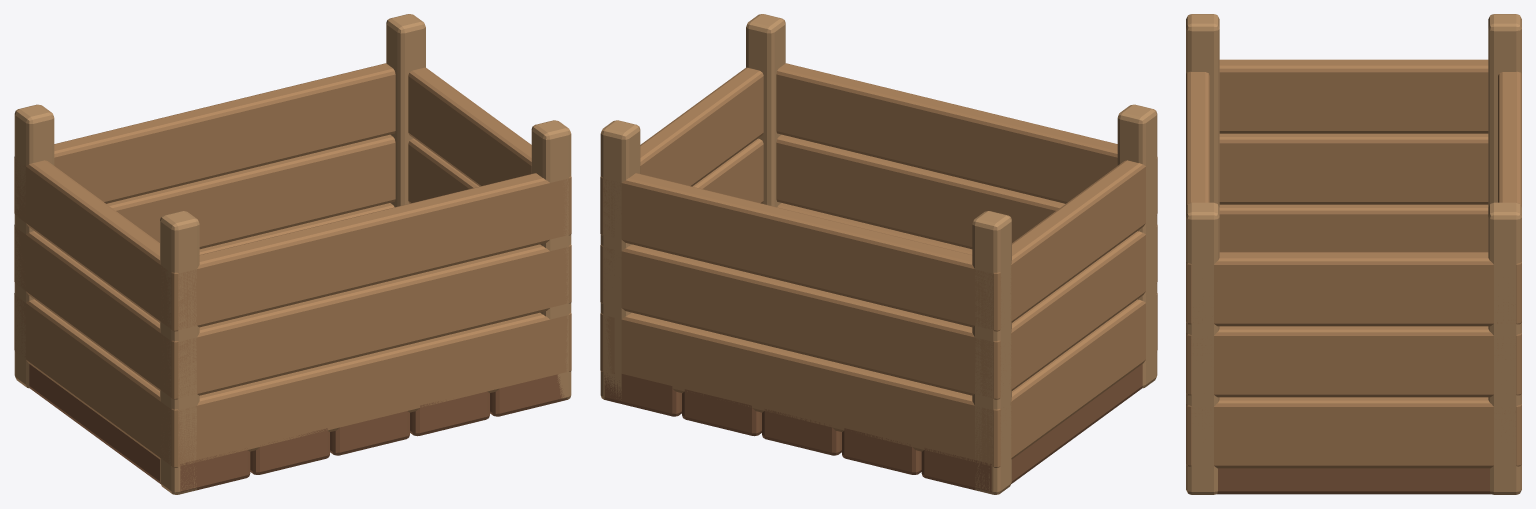
File: market_crate_oak.glb
3 renders of one model, left to right at view 1: azimuth 30°, elevation 25°; view 2: azimuth 150°, elevation 25°; view 3: azimuth 270°, elevation 25°, orthographic. The views are drawn at different scales.
Parts seen in each view (by area): view 1: market_crate_oak; view 2: market_crate_oak; view 3: market_crate_oak.
Part boxes in pixels (x1=…): market_crate_oak: x1=14, y1=14, x2=571, y2=494; market_crate_oak: x1=600, y1=14, x2=1157, y2=494; market_crate_oak: x1=1186, y1=14, x2=1521, y2=494.
Bounding box in the file's own units: 1 × 0.65 × 0.7.
